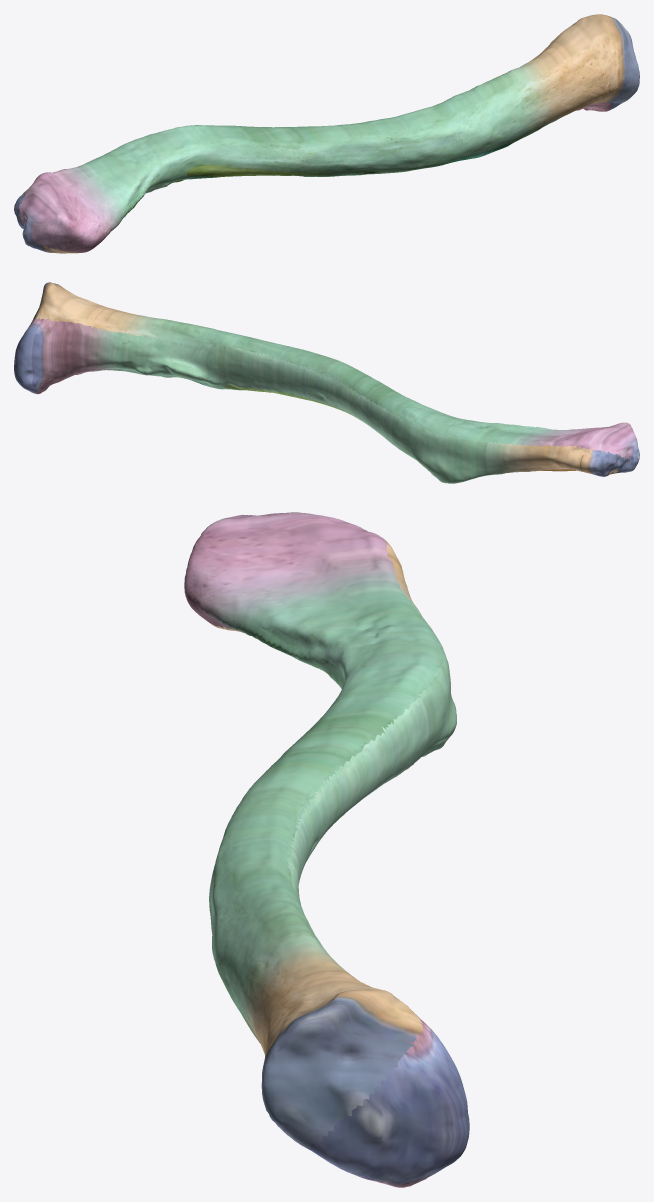
Rendered from obojczyk.glb.
The picture shows the model from 3 angles, top to bottom: view 1: azimuth 30°, elevation 25°; view 2: azimuth 150°, elevation 25°; view 3: azimuth 270°, elevation 25°; orthographic projection. The views are drawn at different scales.
Bounding box in the file's own units: 0.1379 × 0.0221 × 0.0292.
Materials: 2 (1 with a texture image).
